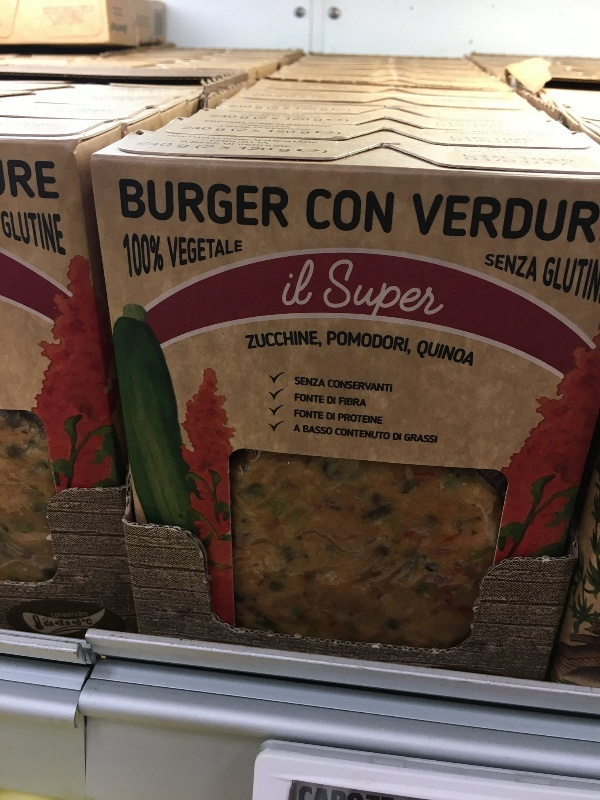text: (337, 254, 352, 333), (353, 254, 368, 333), (369, 254, 384, 333), (385, 254, 400, 333), (401, 254, 416, 333), (417, 254, 432, 333), (433, 254, 448, 333), (129, 176, 144, 234), (145, 176, 160, 234), (161, 176, 176, 234), (177, 176, 192, 234), (193, 176, 208, 234), (209, 176, 224, 234), (225, 176, 240, 234), (241, 176, 256, 234), (257, 176, 272, 234), (273, 176, 288, 234), (417, 192, 432, 248), (433, 192, 448, 248), (449, 192, 464, 248), (465, 192, 480, 248), (481, 192, 496, 248), (497, 192, 512, 248), (513, 192, 528, 248), (529, 192, 544, 248), (545, 192, 560, 248), (561, 192, 576, 248), (577, 192, 592, 248), (289, 256, 304, 308), (321, 185, 336, 236), (337, 185, 352, 236), (353, 185, 368, 236), (369, 185, 384, 236), (561, 253, 576, 304), (577, 253, 592, 304), (129, 232, 144, 280), (145, 232, 160, 280), (1, 210, 16, 256), (17, 210, 32, 256), (33, 210, 48, 256), (49, 210, 64, 256), (547, 253, 560, 304), (17, 159, 32, 200), (33, 159, 48, 200), (308, 185, 320, 236), (305, 256, 316, 308), (177, 234, 192, 271), (193, 234, 208, 271), (209, 234, 224, 271), (225, 234, 240, 271), (385, 185, 395, 236), (497, 252, 512, 286), (513, 252, 528, 286), (433, 337, 448, 368), (449, 337, 464, 368), (120, 176, 128, 234), (337, 329, 352, 358), (353, 329, 368, 358), (369, 329, 384, 358), (385, 329, 400, 358), (49, 159, 59, 200), (419, 337, 432, 368), (593, 192, 600, 248), (257, 326, 272, 352), (273, 326, 288, 352), (289, 326, 304, 352), (305, 326, 320, 352), (7, 159, 16, 200), (593, 253, 600, 304), (401, 329, 413, 358), (332, 254, 336, 333), (487, 252, 496, 286), (168, 234, 176, 271), (122, 232, 128, 280), (245, 326, 256, 352), (465, 337, 474, 368), (529, 252, 537, 286), (328, 329, 336, 358), (337, 378, 352, 393), (353, 378, 368, 393), (369, 378, 384, 393), (412, 192, 416, 248), (337, 427, 352, 441), (353, 427, 368, 441), (369, 427, 384, 441), (305, 375, 320, 388), (161, 232, 165, 280), (417, 432, 432, 444), (305, 393, 320, 404), (305, 409, 320, 420), (353, 413, 368, 424), (353, 396, 367, 407), (369, 413, 383, 424), (305, 425, 320, 435), (339, 396, 352, 407), (339, 413, 352, 424), (405, 432, 416, 444), (328, 378, 336, 393), (385, 378, 393, 393), (295, 375, 304, 388), (294, 409, 304, 420), (321, 425, 332, 435), (295, 393, 304, 404), (65, 210, 67, 256), (327, 395, 336, 404), (295, 424, 304, 433), (241, 234, 243, 271), (327, 412, 336, 420), (321, 375, 326, 388), (393, 432, 400, 441), (433, 432, 438, 444), (289, 176, 290, 234), (385, 427, 389, 441), (287, 256, 288, 308), (321, 326, 323, 352), (321, 393, 324, 404), (321, 409, 324, 420), (335, 427, 336, 441), (303, 425, 304, 435), (401, 432, 402, 441)
